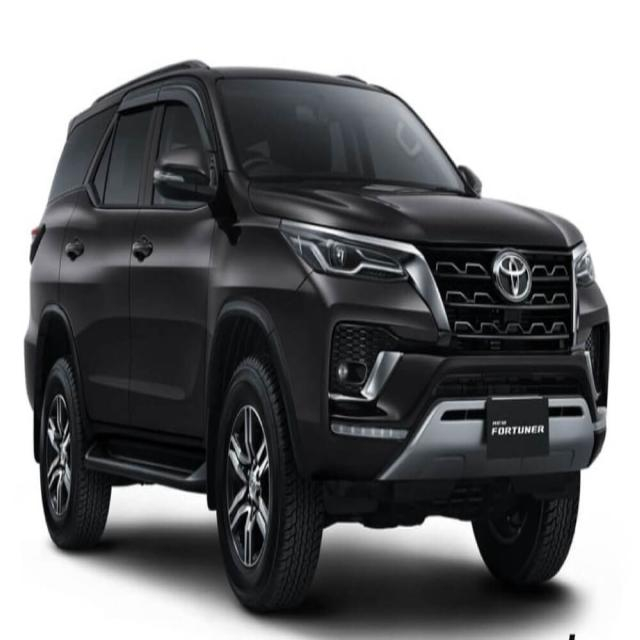light_vehicle: (23, 61, 610, 613)
